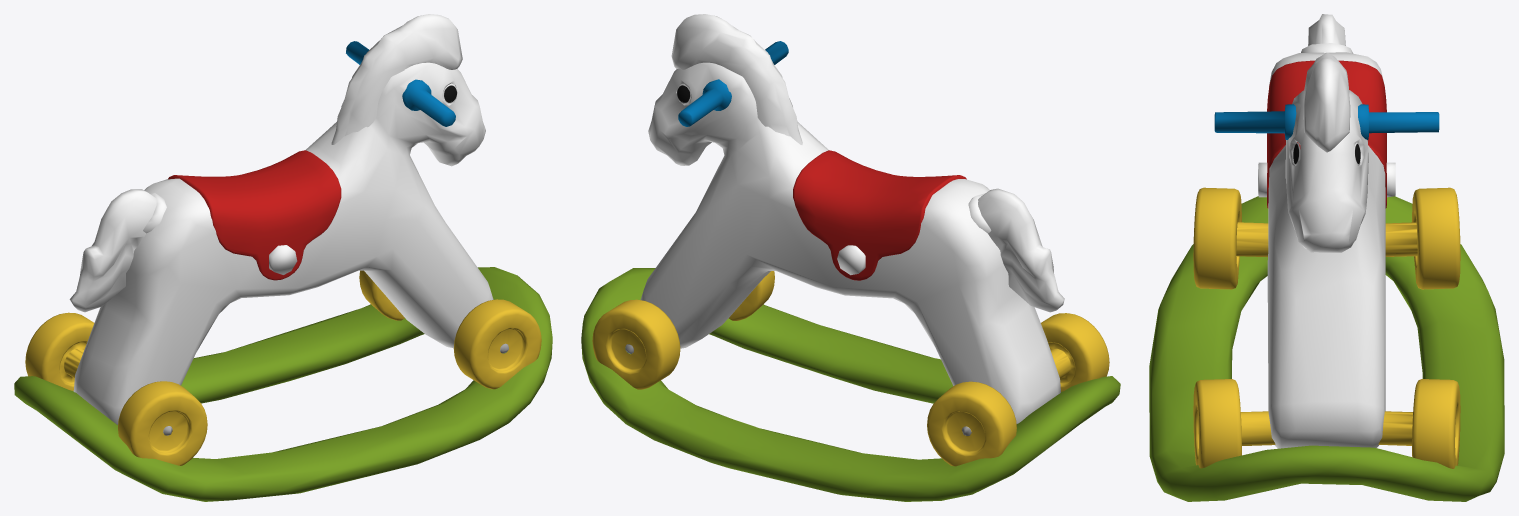
Rendered from Toy+House_Decimate.fbx.
3 views of the same model, side by side, from view 1: azimuth 30°, elevation 25°; view 2: azimuth 150°, elevation 25°; view 3: azimuth 270°, elevation 25° (orthographic). The views are drawn at different scales.
Parts seen in each view (by area): view 1: White matte plastic, green plastic, yellow plastic, red plastic, blue plastic; view 2: White matte plastic, green plastic, yellow plastic, red plastic, blue plastic; view 3: White matte plastic, green plastic, yellow plastic, red plastic, blue plastic.
Part boxes in pixels (box(x1,y1,x2,y2)): White matte plastic: box(69, 14, 493, 424); green plastic: box(14, 267, 552, 501); yellow plastic: box(25, 270, 541, 465); red plastic: box(168, 150, 341, 280); blue plastic: box(346, 41, 455, 126); White matte plastic: box(640, 14, 1064, 423); green plastic: box(581, 268, 1120, 501); yellow plastic: box(592, 271, 1109, 466); red plastic: box(793, 150, 966, 280); blue plastic: box(678, 41, 788, 126); White matte plastic: box(1258, 14, 1395, 448); green plastic: box(1149, 196, 1504, 501); yellow plastic: box(1193, 187, 1460, 468); red plastic: box(1267, 60, 1386, 208); blue plastic: box(1214, 104, 1439, 139).
Bounding box in the file's own units: 63 × 47.08 × 33.89.
Materials: 7 (7 with a texture image).
